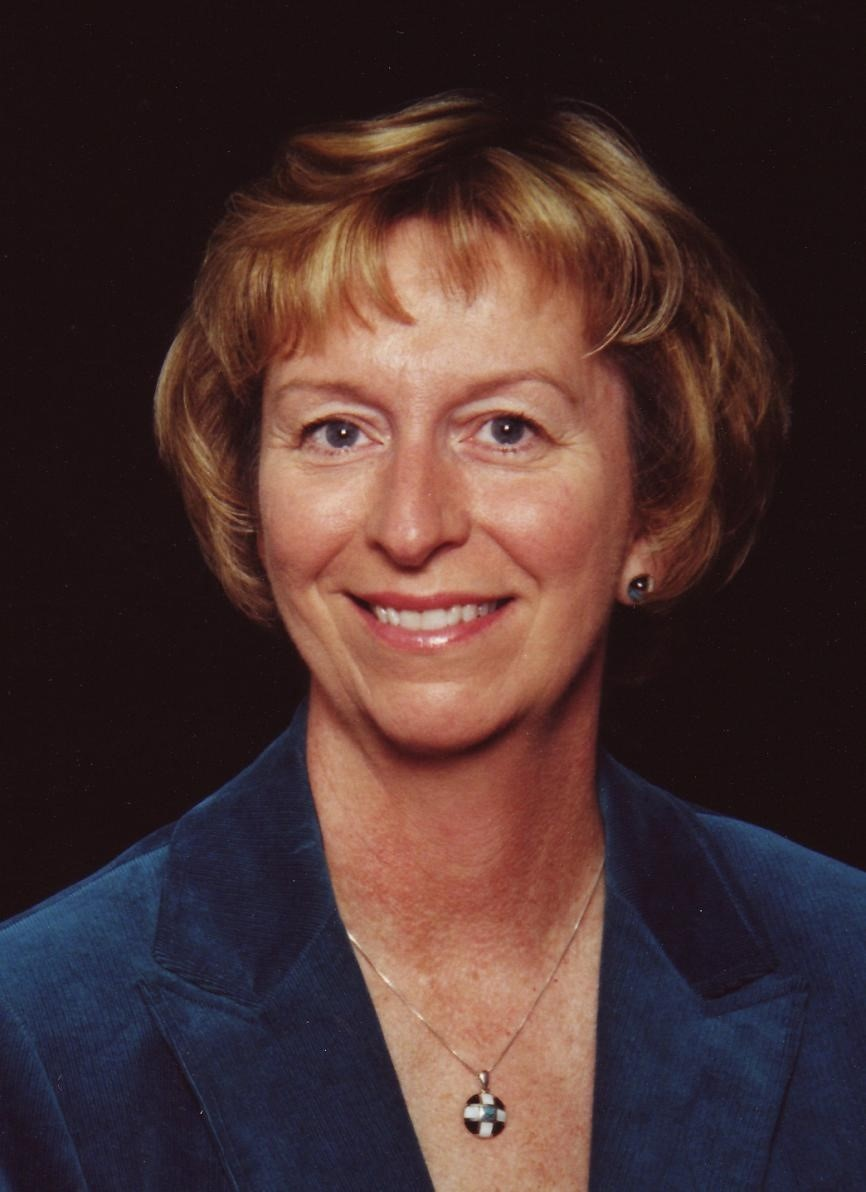face_no_mask: (147, 99, 754, 748)
